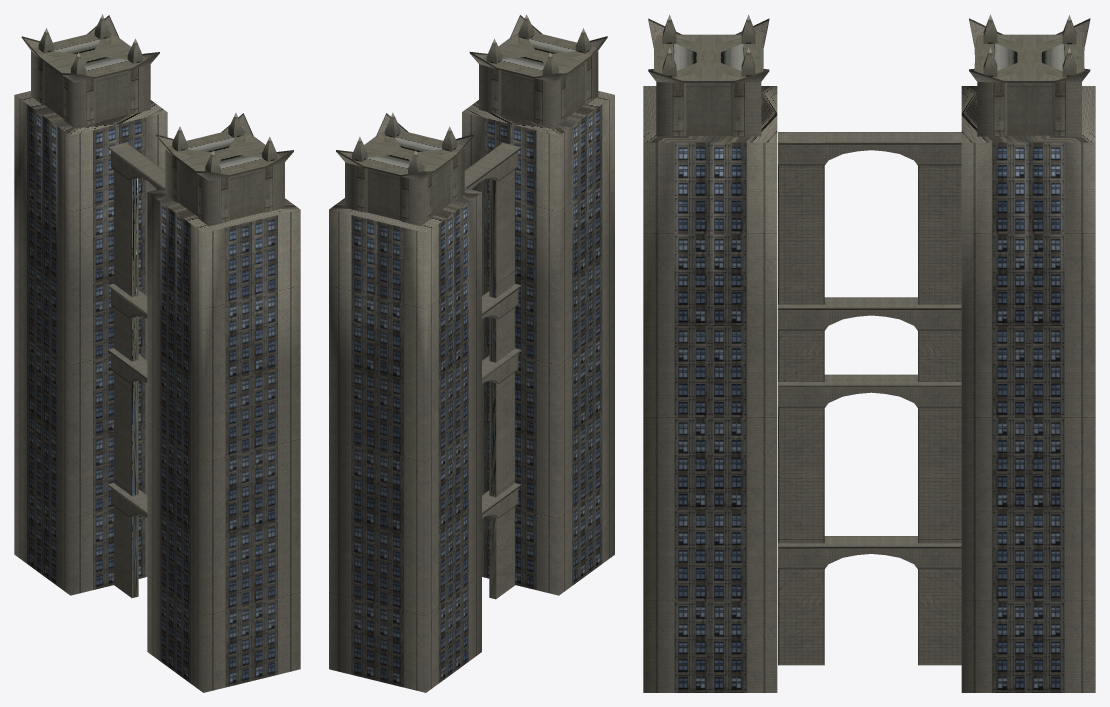
Rendered from Gotham_Skyline_BuildingBlock07.obj.
The picture shows the model from 3 angles, left to right: view 1: azimuth 30°, elevation 25°; view 2: azimuth 150°, elevation 25°; view 3: azimuth 270°, elevation 25°; orthographic projection. The views are drawn at different scales.
Parts seen in each view (by area): view 1: Gotham_Skyline_BuildingBlock07; view 2: Gotham_Skyline_BuildingBlock07; view 3: Gotham_Skyline_BuildingBlock07.
Part boxes in pixels (x1=…): Gotham_Skyline_BuildingBlock07: x1=14, y1=14, x2=300, y2=692; Gotham_Skyline_BuildingBlock07: x1=329, y1=14, x2=614, y2=692; Gotham_Skyline_BuildingBlock07: x1=643, y1=14, x2=1095, y2=692.
Bounding box in the file's own units: 7112 × 37101 × 23982.
